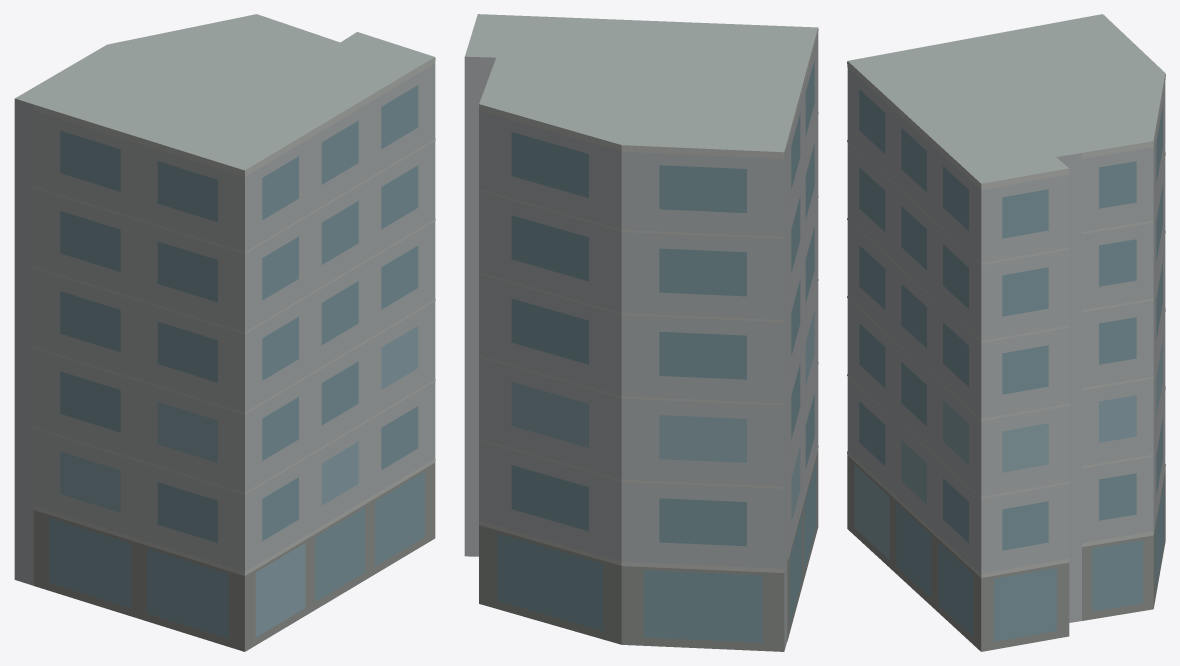
Rendered from survey-upis-32700855.glb.
The picture shows the model from 3 angles, left to right: view 1: azimuth 30°, elevation 25°; view 2: azimuth 150°, elevation 25°; view 3: azimuth 270°, elevation 25°; orthographic projection. The views are drawn at different scales.
Visible parts, largest first — view 1: survey-upis-32700855.tmp; view 2: survey-upis-32700855.tmp; view 3: survey-upis-32700855.tmp.
Part boxes in pixels (x1,y1,x2,y2): survey-upis-32700855.tmp: (14, 14, 435, 651); survey-upis-32700855.tmp: (464, 14, 818, 651); survey-upis-32700855.tmp: (847, 14, 1165, 651).
Bounding box in the file's own units: 14.26 × 18.3 × 11.29.
